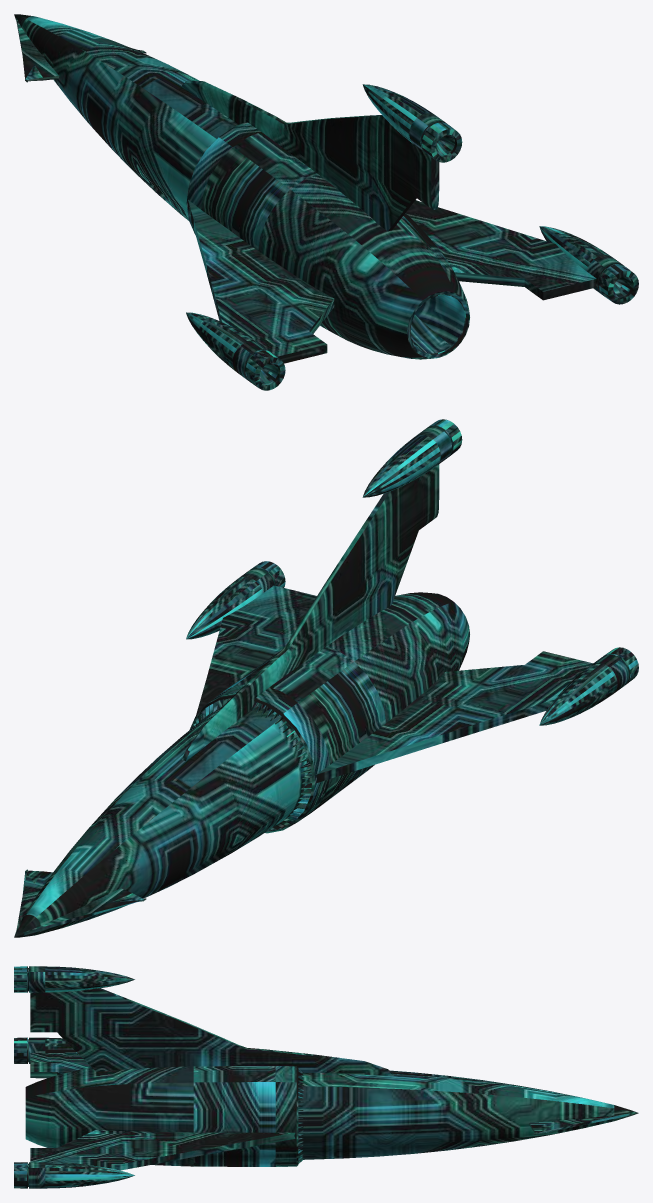
The model's file is rocket05_2.obj.
3 views of the same model, one above another, from view 1: azimuth 30°, elevation 25°; view 2: azimuth 150°, elevation 25°; view 3: azimuth 270°, elevation 25° (orthographic). The views are drawn at different scales.
Parts seen in each view (by area): view 1: hull_silver103; view 2: hull_silver103; view 3: hull_silver103.
Boxes of the visible parts, x1,y1,x2,y2 form: hull_silver103: (14, 14, 638, 390); hull_silver103: (14, 419, 638, 937); hull_silver103: (14, 966, 638, 1188).
Size of the model in its own units: 16.49 by 11.03 by 32.08.
Materials: 1 (1 with a texture image).
